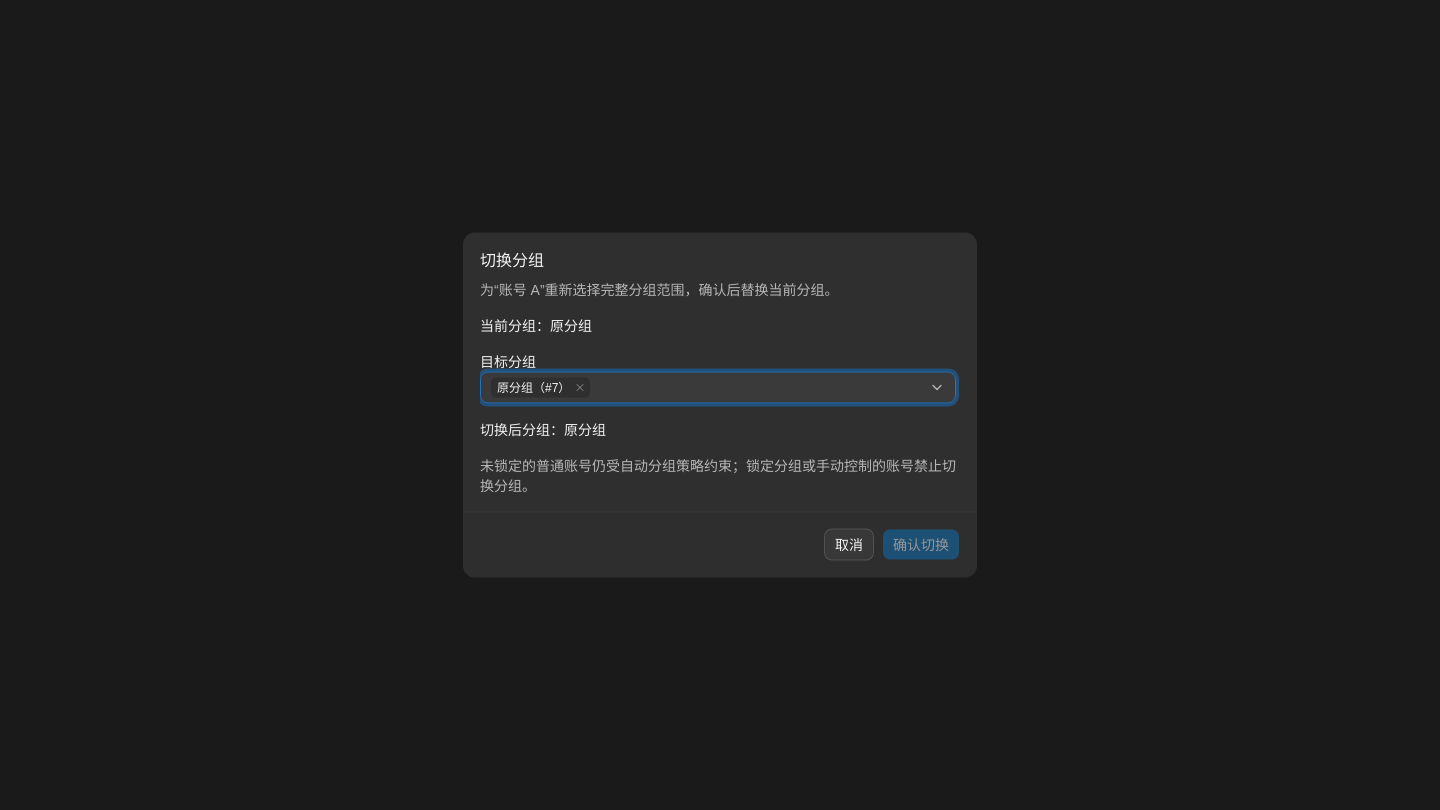
Scenario: 管理目标版本变化时重新初始化选择，不将旧目标草稿带入新目标
Step 1. Click the dropdown named "目标分组" → x=718, y=388, box [480,372,956,404]
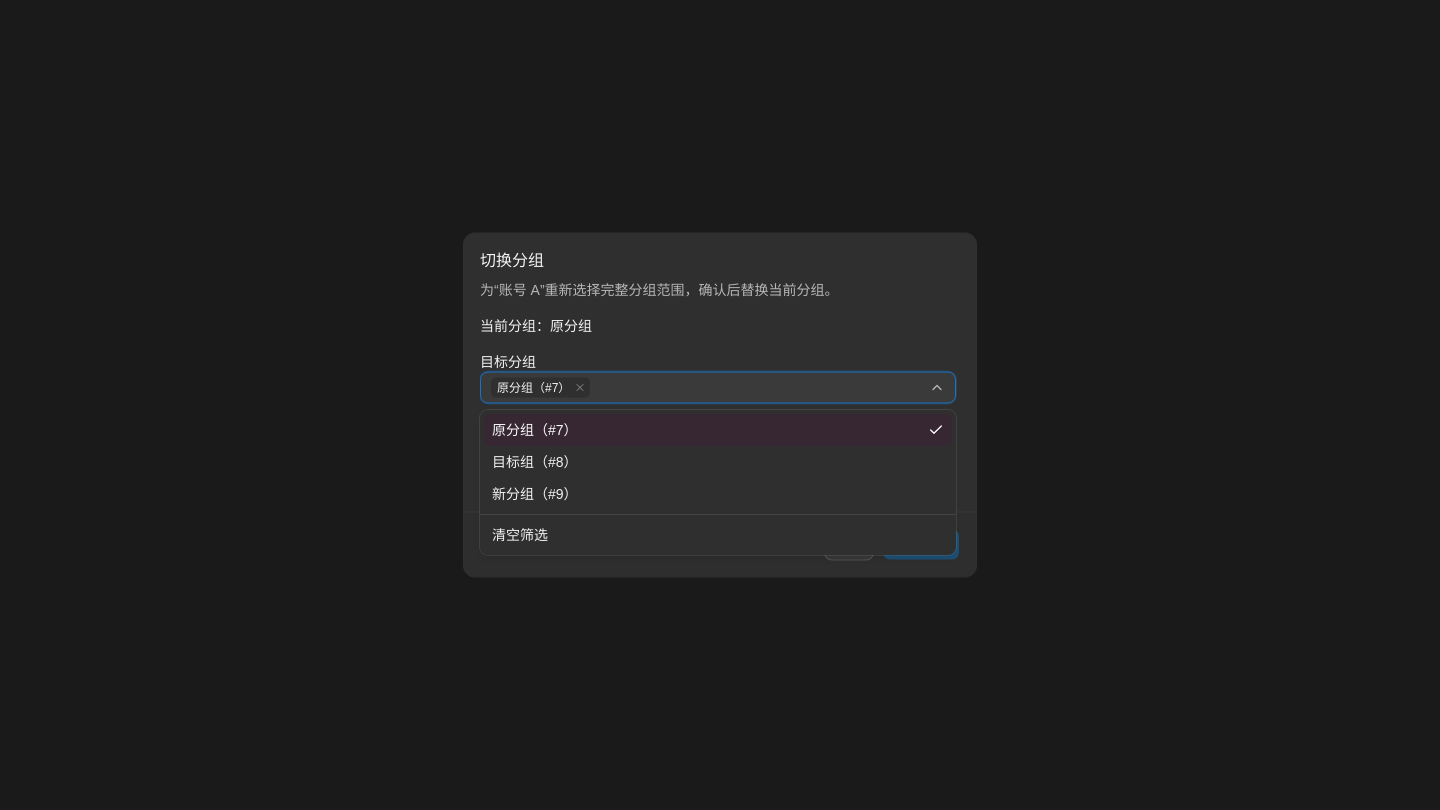
Step 2. Click the option "目标组（#8）" → x=535, y=462, box [492,454,578,470]
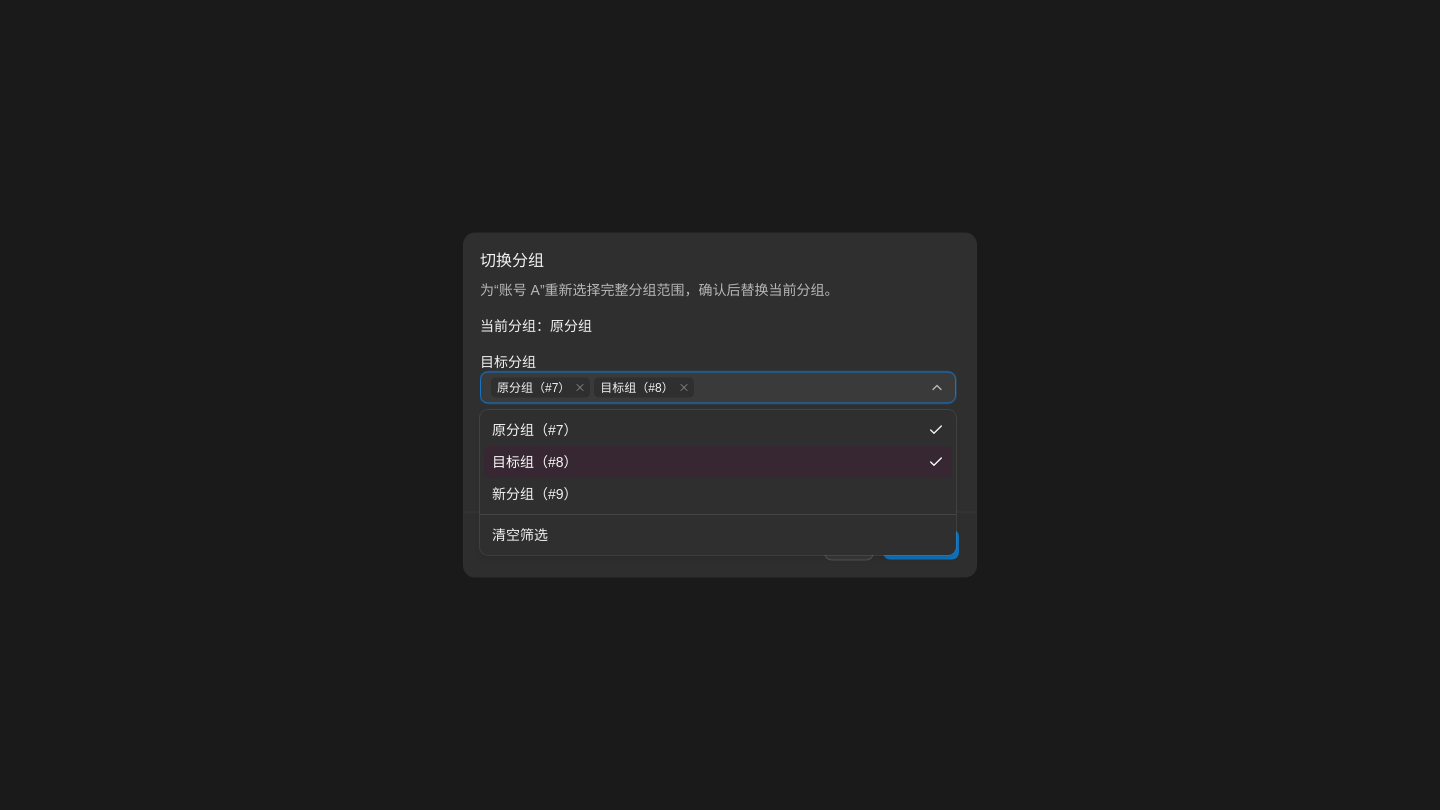
Step 3. Press Escape
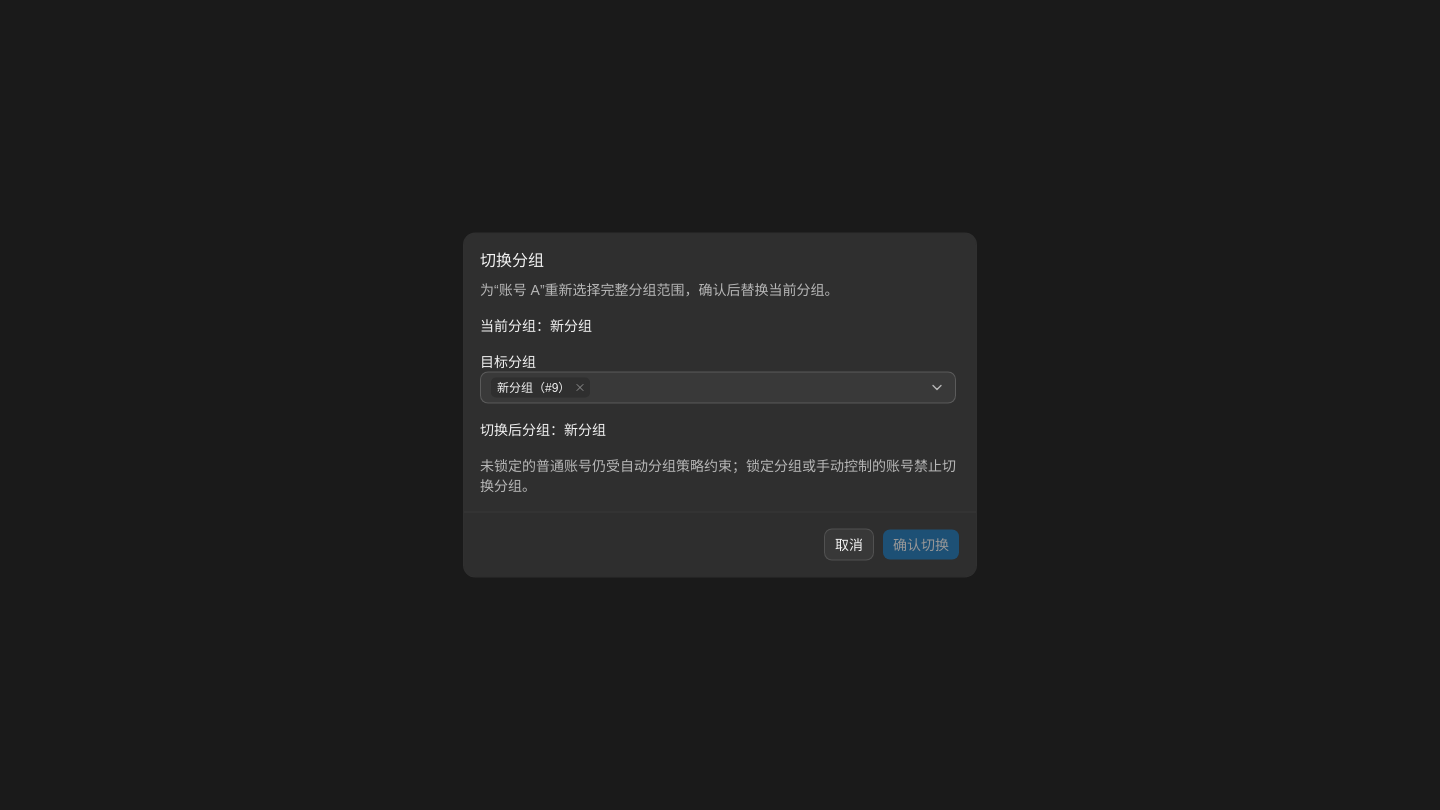
Expected: the text "切换后分组：新分组" is shown, [480,422,606,438]
Expected: the button "确认切换" is disabled, [882,528,960,560]
